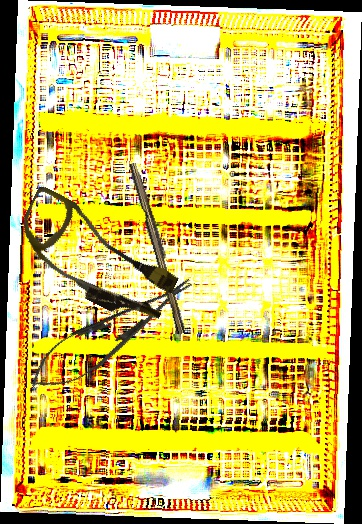Cannula: (3, 184, 189, 333)
Needle Holder: (19, 263, 204, 405)
Scalpel Handle: (125, 161, 192, 335)
